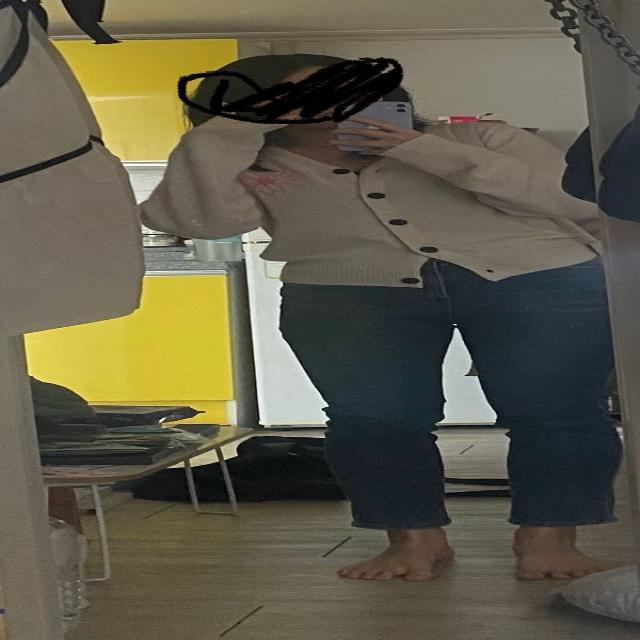cardigan: (144, 114, 600, 288)
denimpants: (272, 253, 627, 532)
